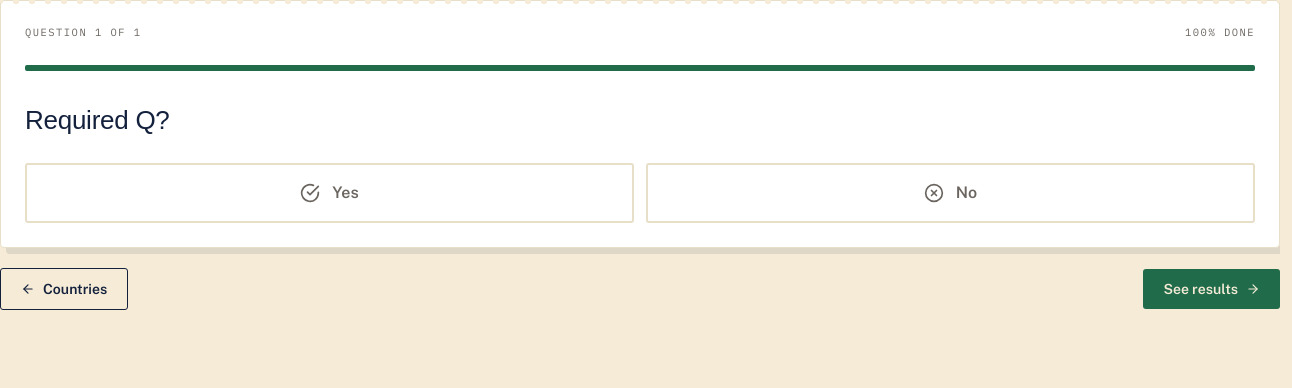
it: CountryChecker — Phase 5B: required field validation › shows generic required message when error_message is absent
Click the button "See results" at [1212, 288], box [1143,268,1280,308]
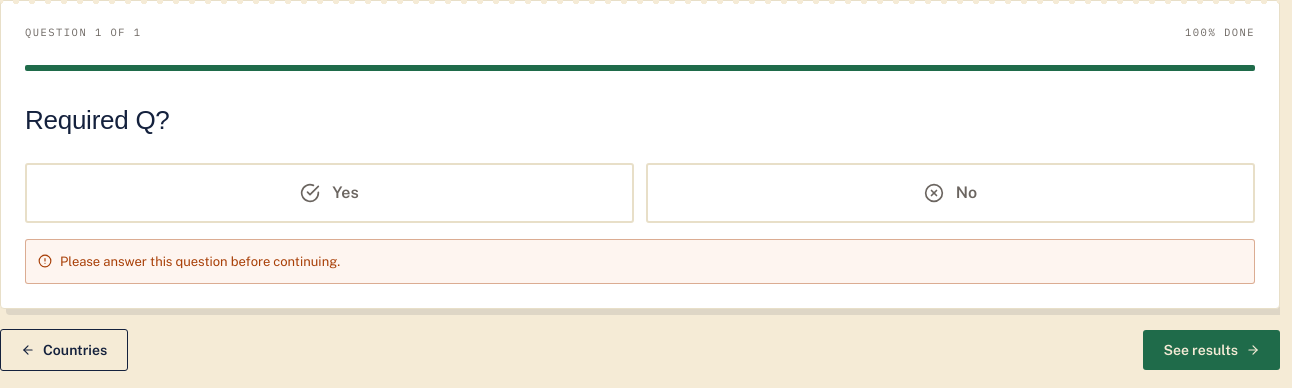
Now the text "Please answer this question before continuing." is shown, box [60,252,340,271]
